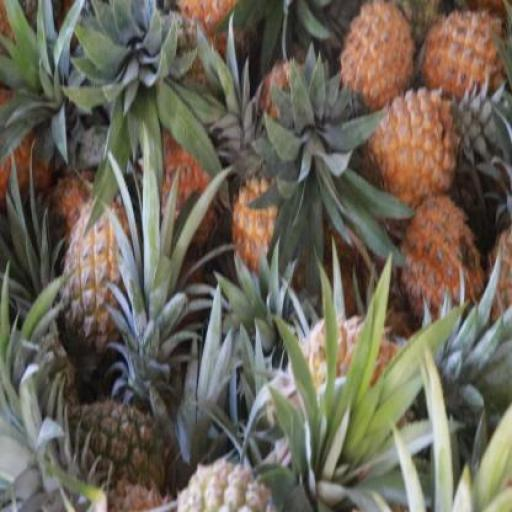------------------------------: (62, 208, 131, 362)
Pineapple - v8 v1: (397, 195, 487, 327), (372, 88, 458, 210), (343, 3, 419, 118), (423, 16, 507, 112)
